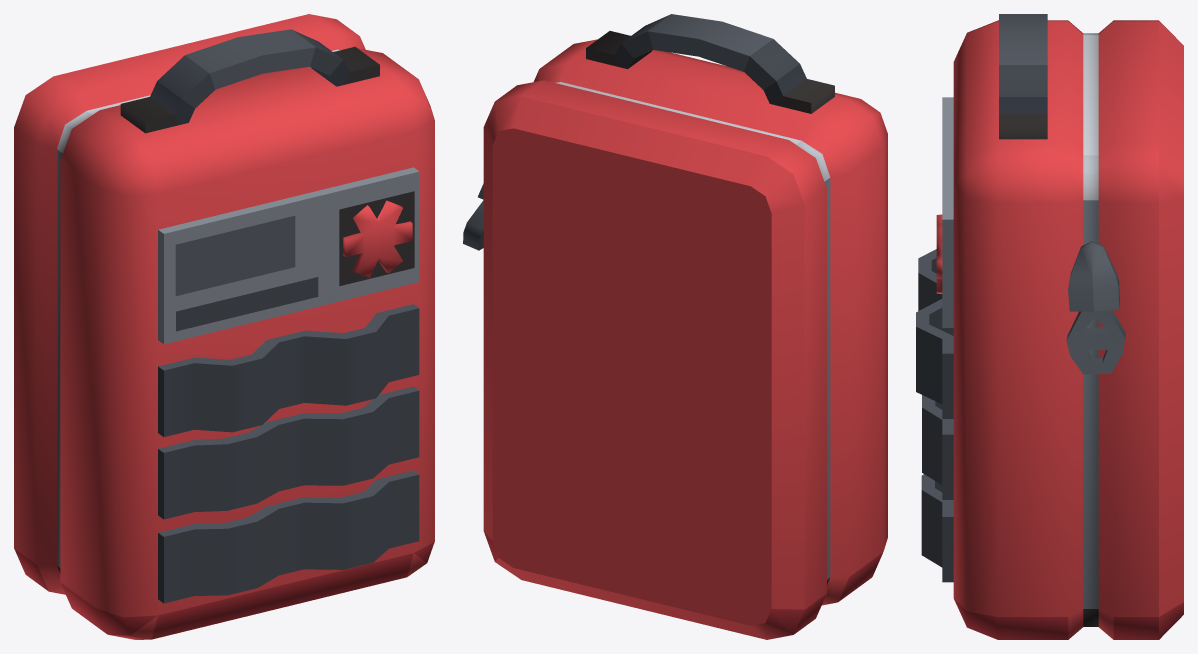
Rendered from kit_primeiros_socorros_pacote.glb.
3 views of the same model, side by side, from view 1: azimuth 30°, elevation 25°; view 2: azimuth 150°, elevation 25°; view 3: azimuth 270°, elevation 25° (orthographic). The views are drawn at different scales.
Visible parts, largest first — view 1: kit_primeiros_socorros_pacote; view 2: kit_primeiros_socorros_pacote; view 3: kit_primeiros_socorros_pacote.
Part boxes in pixels (box(x1,y1,x2,y2)): kit_primeiros_socorros_pacote: box(14, 14, 434, 639); kit_primeiros_socorros_pacote: box(463, 14, 887, 639); kit_primeiros_socorros_pacote: box(916, 14, 1183, 639).
Bounding box in the file's own units: 0.1971 × 0.2741 × 0.1225.
1 material, 1 textured.
